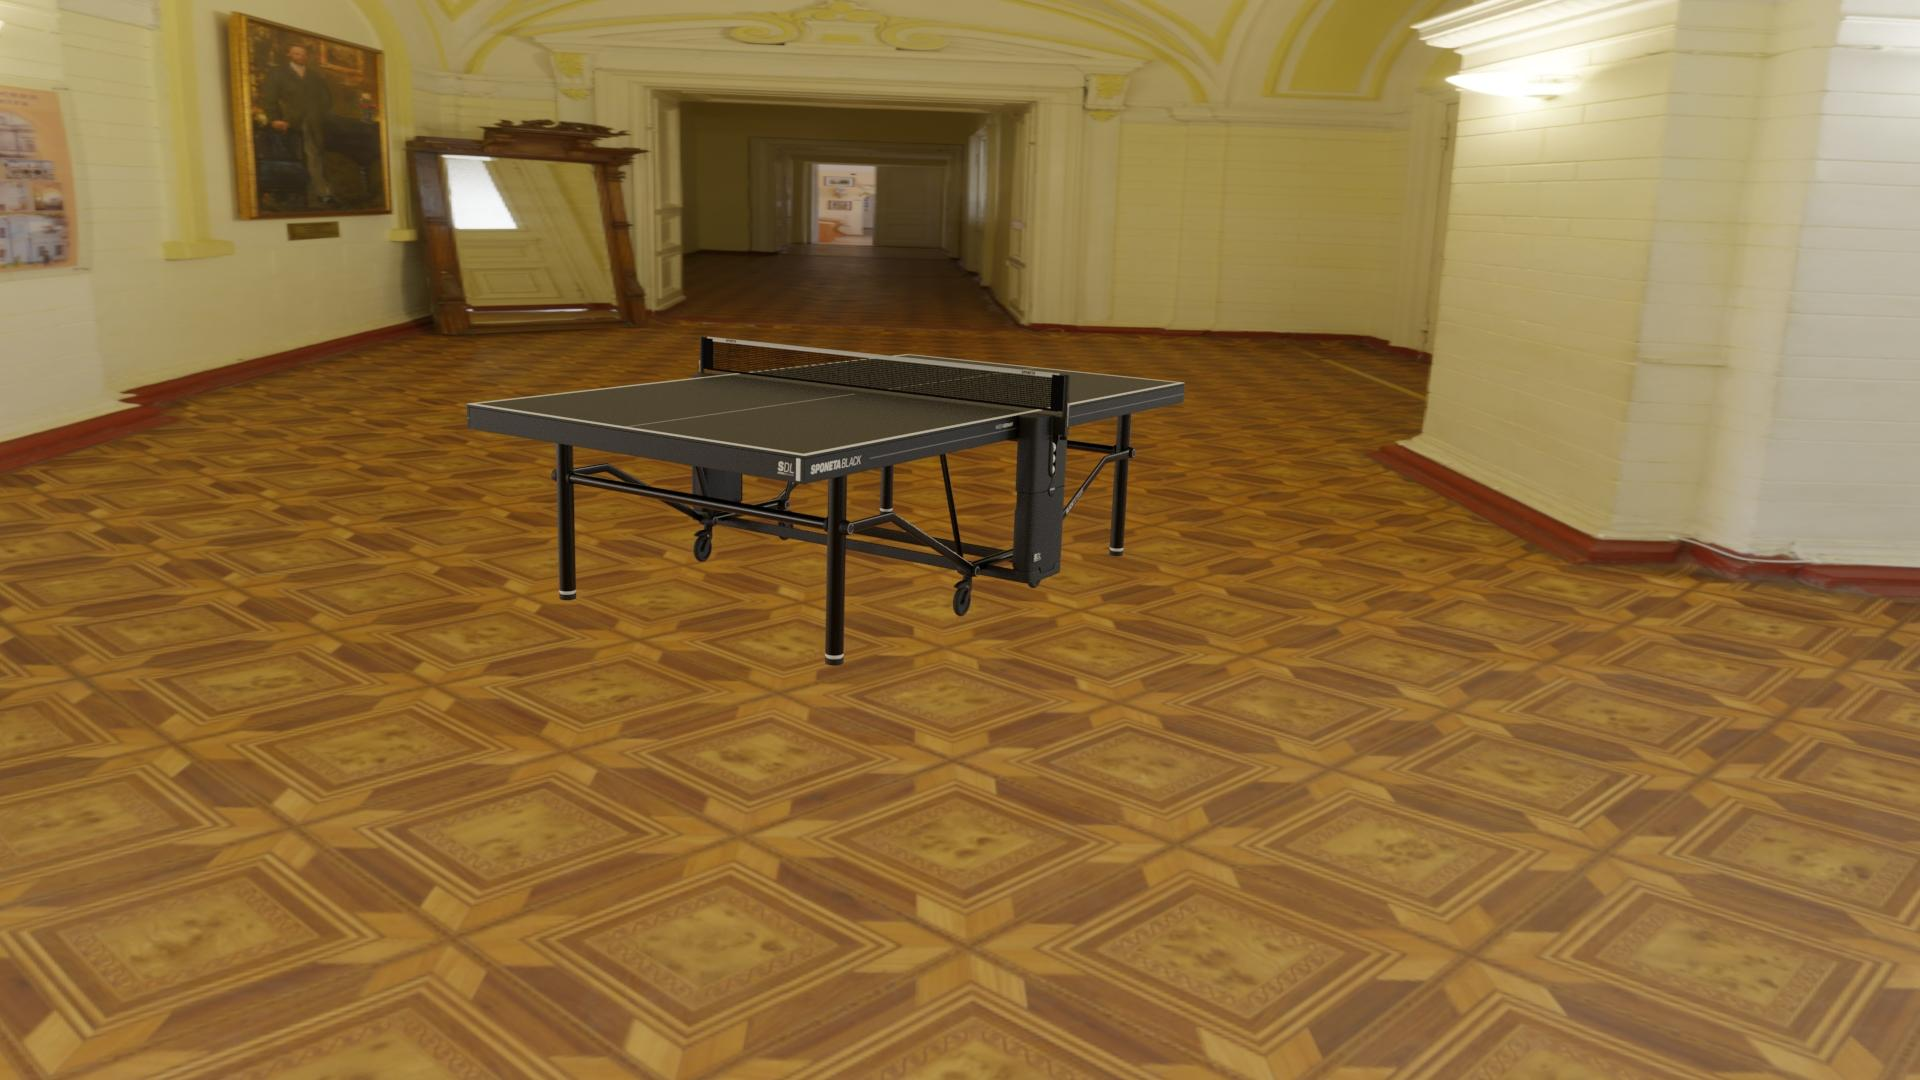table: (475, 355, 1179, 454)
